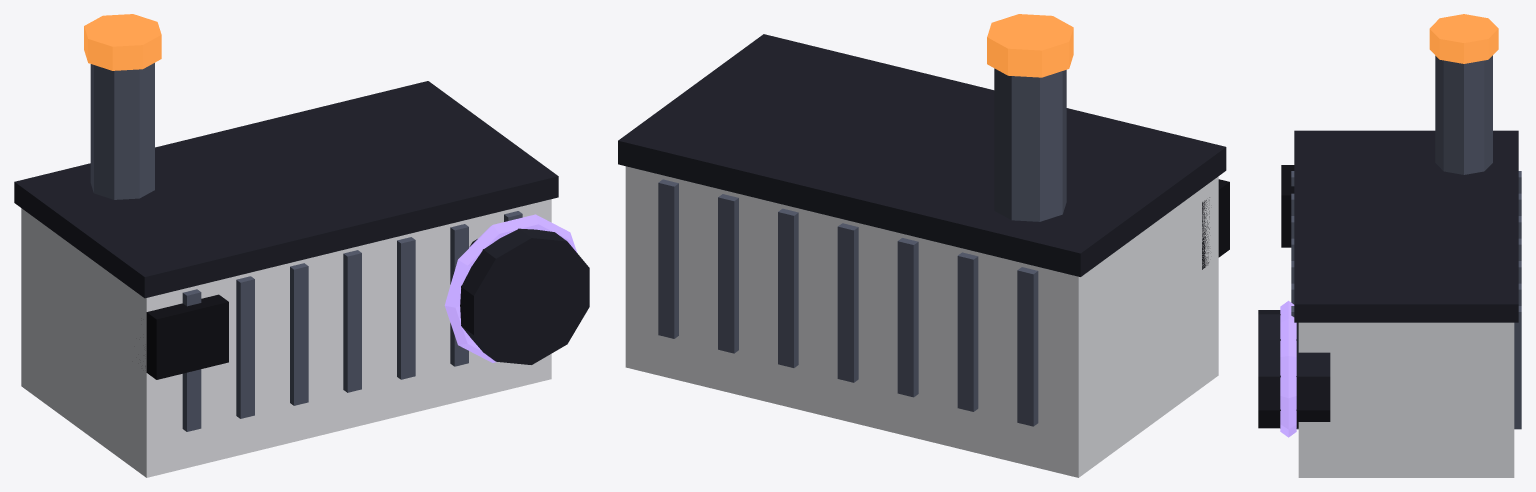
The model's file is city_generator.glb.
The picture shows the model from 3 angles, left to right: view 1: azimuth 30°, elevation 25°; view 2: azimuth 150°, elevation 25°; view 3: azimuth 270°, elevation 25°; orthographic projection. The views are drawn at different scales.
Visible parts, largest first — view 1: city_generator; view 2: city_generator; view 3: city_generator.
Boxes of the visible parts, x1,y1,x2,y2 form: city_generator: (14,14,589,477); city_generator: (618,14,1229,477); city_generator: (1258,14,1521,477).
Size of the model in its own units: 3.01 by 2.38 by 1.83.
